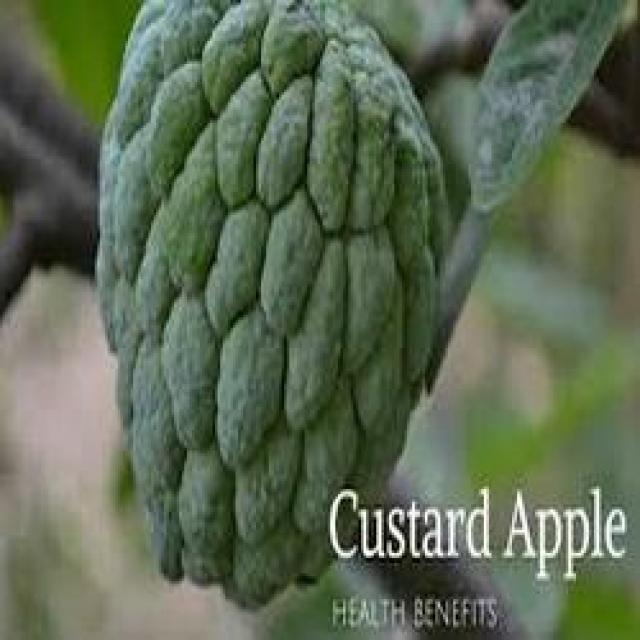apple: (92, 5, 446, 609)
